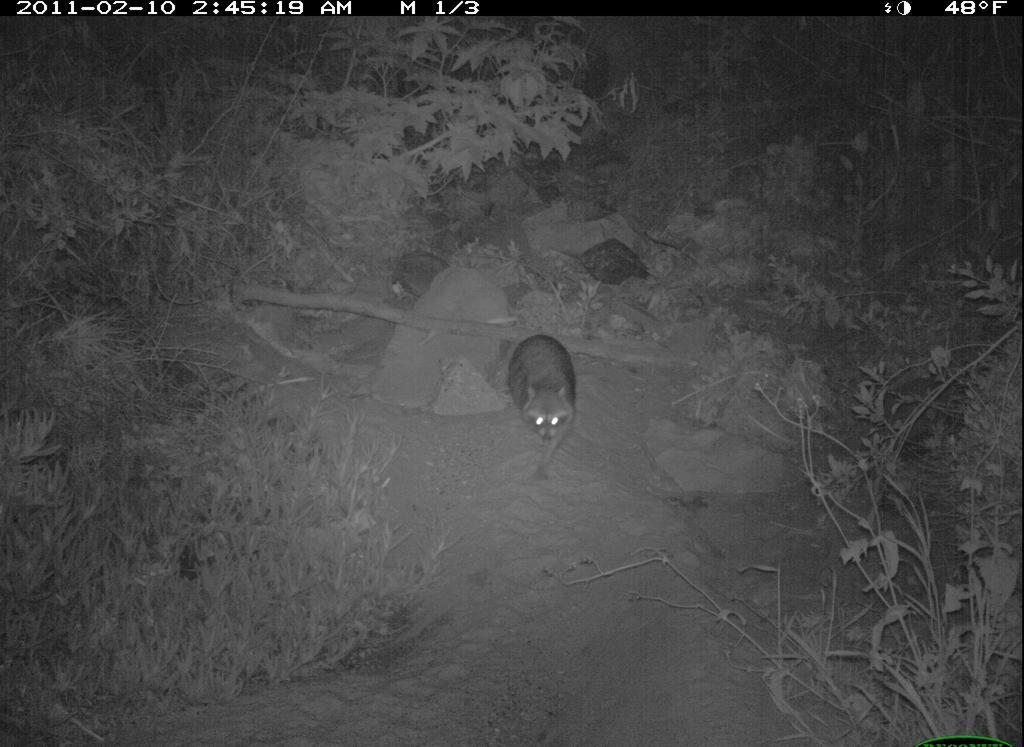raccoon: (486, 332, 589, 489)
